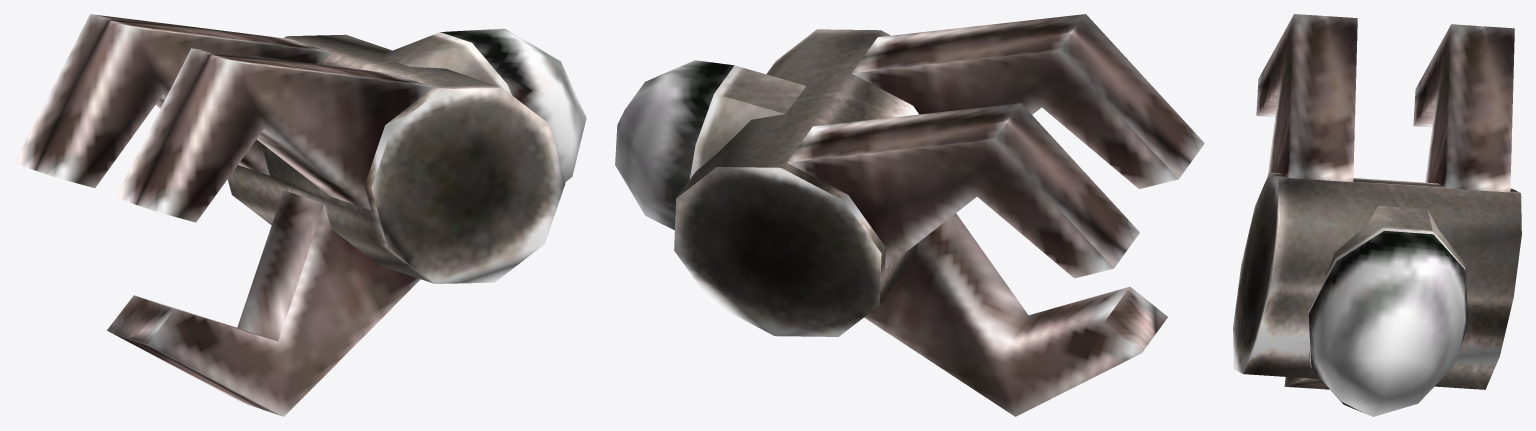
Rendered from Robot01.RightPalm2.fbx.
The picture shows the model from 3 angles, left to right: view 1: azimuth 30°, elevation 25°; view 2: azimuth 150°, elevation 25°; view 3: azimuth 270°, elevation 25°; orthographic projection. The views are drawn at different scales.
Parts seen in each view (by area): view 1: Robot01.RightPalm2; view 2: Robot01.RightPalm2; view 3: Robot01.RightPalm2.
Boxes of the visible parts, box(x1,y1,x2,y2) form: Robot01.RightPalm2: box(14, 14, 586, 416); Robot01.RightPalm2: box(615, 14, 1204, 416); Robot01.RightPalm2: box(1233, 14, 1521, 416).
Bounding box in the file's own units: 37 × 25.56 × 18.65.
